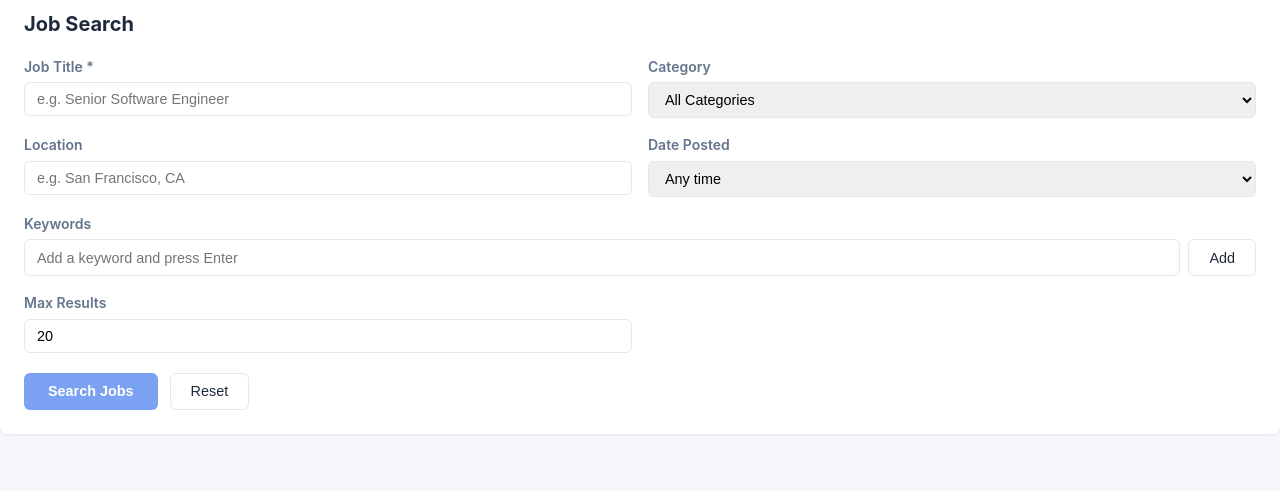
Test: SearchForm › adds and removes keywords
Type "React" into the field labelled "Keywords" at (602, 258), box top-left (24, 239), bottom-right (1180, 276)
Then press Enter
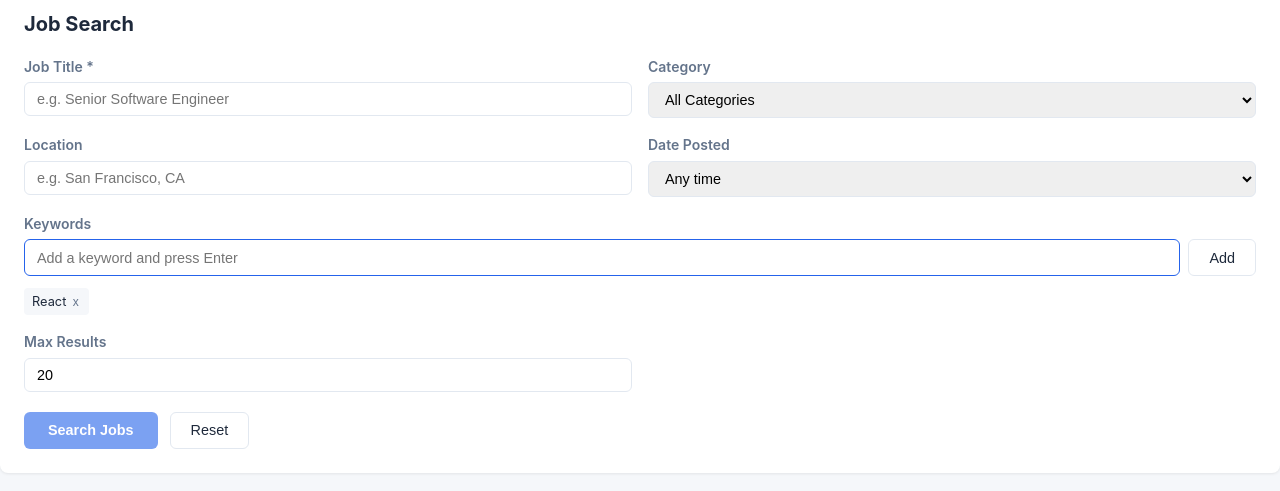
Expected: the text "React" is shown, top-left (32, 294), bottom-right (66, 308)
Click the button named "remove react" at (76, 302), box top-left (70, 295), bottom-right (81, 309)
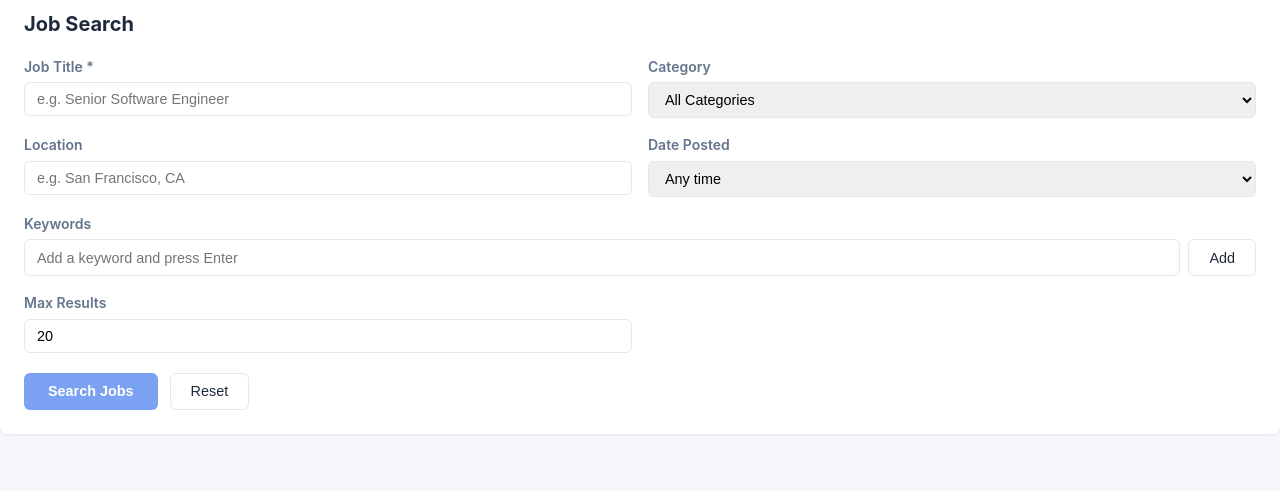
Expected: the text "React" is gone
